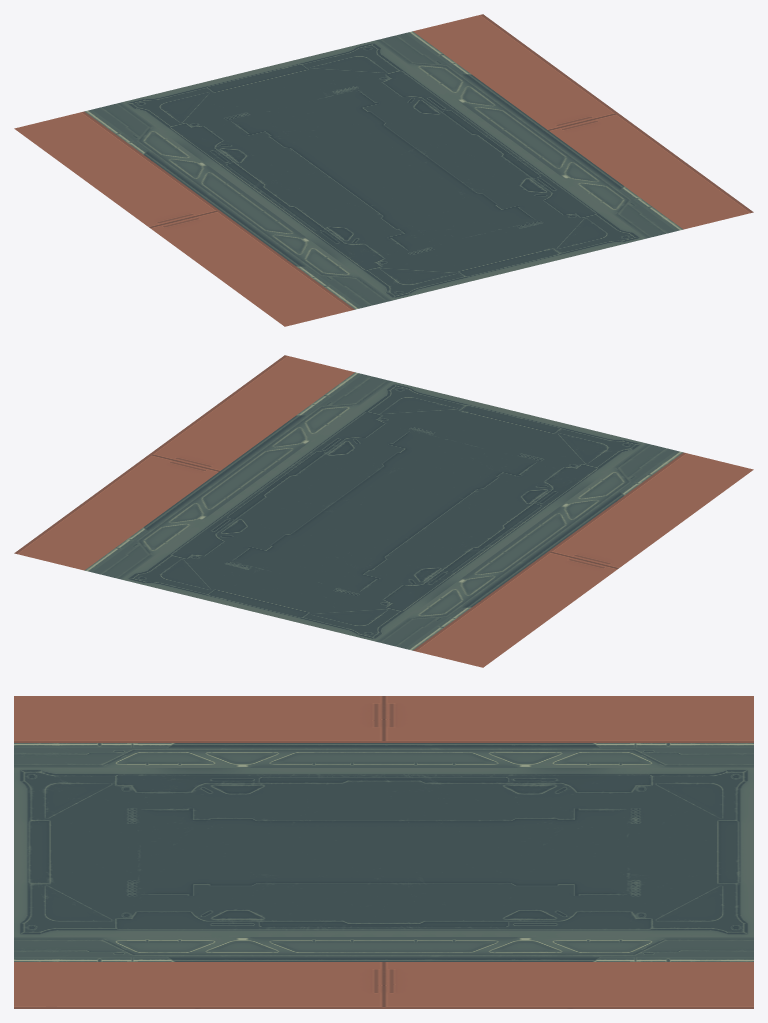
The model's file is AlloyLid.gltf.
3 renders of one model, top to bottom at view 1: azimuth 30°, elevation 25°; view 2: azimuth 150°, elevation 25°; view 3: azimuth 270°, elevation 25°, orthographic. The views are drawn at different scales.
Parts seen in each view (by area): view 1: Platform_CenterPlate; view 2: Platform_CenterPlate; view 3: Platform_CenterPlate.
Part boxes in pixels (bbox=[...]): Platform_CenterPlate: bbox=[14, 14, 753, 326]; Platform_CenterPlate: bbox=[14, 355, 753, 667]; Platform_CenterPlate: bbox=[14, 696, 753, 1008].
Bounding box in the file's own units: 4 × 2.84e-14 × 4.
Materials: 2 (2 with a texture image).
